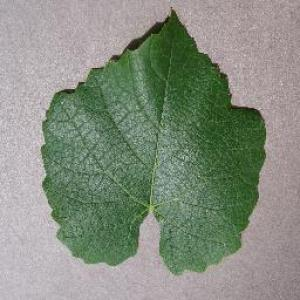Folha: (40, 6, 267, 275)
